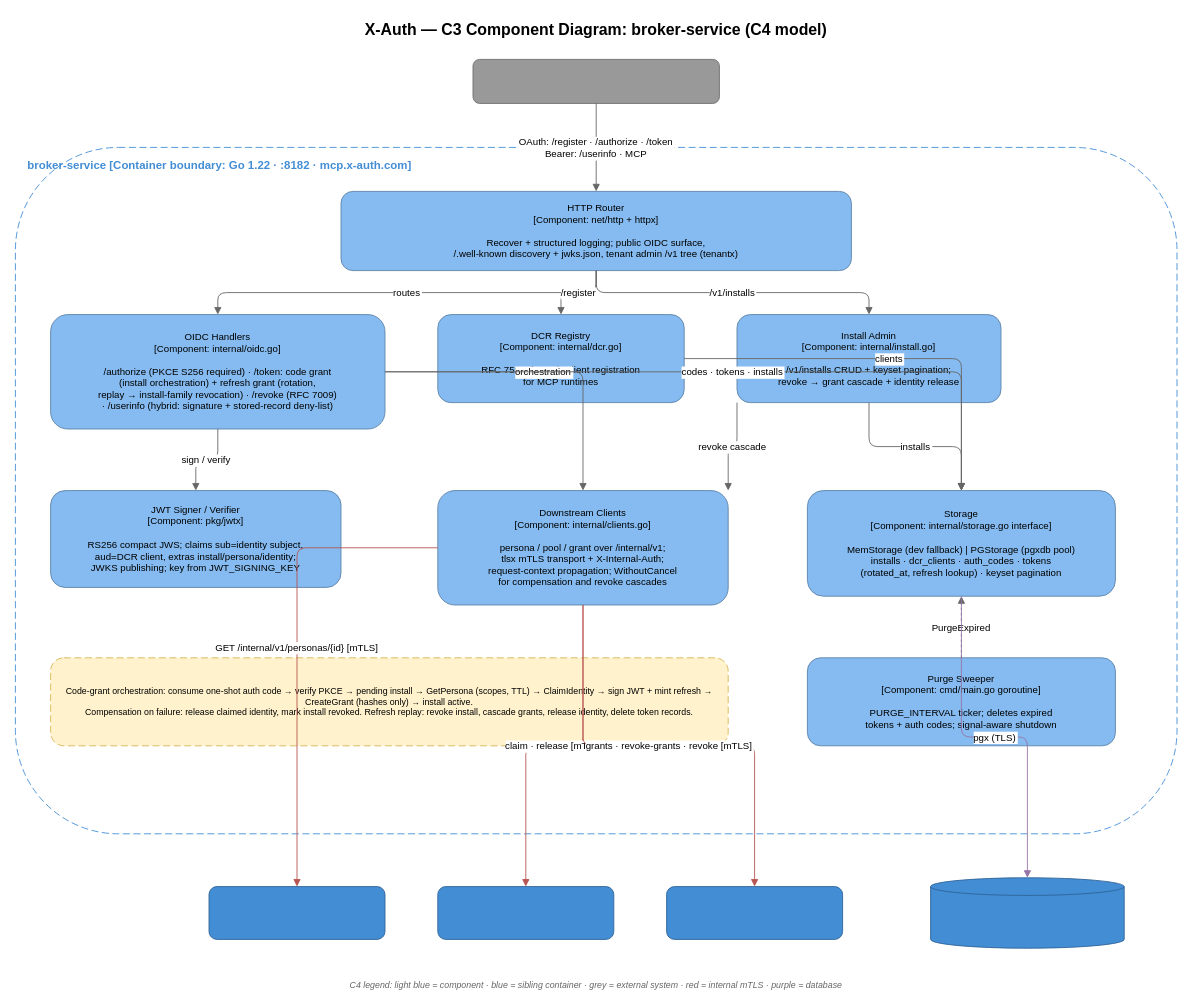
Image size: 1192x1007. Some labels were removed from this diagram. The centre of each missing label's shape, as x and y in pixels:
"AI Agent Runtime (MCP client) [Software System]" belongs at pixel 595 81.
"broker_db [Container: PostgreSQL 16] migrations 000001–000003" belongs at pixel 1027 912.
"grant-service [Container]" belongs at pixel 754 912.
"persona-service [Container]" belongs at pixel 296 912.
"pool-service [Container]" belongs at pixel 525 912.
